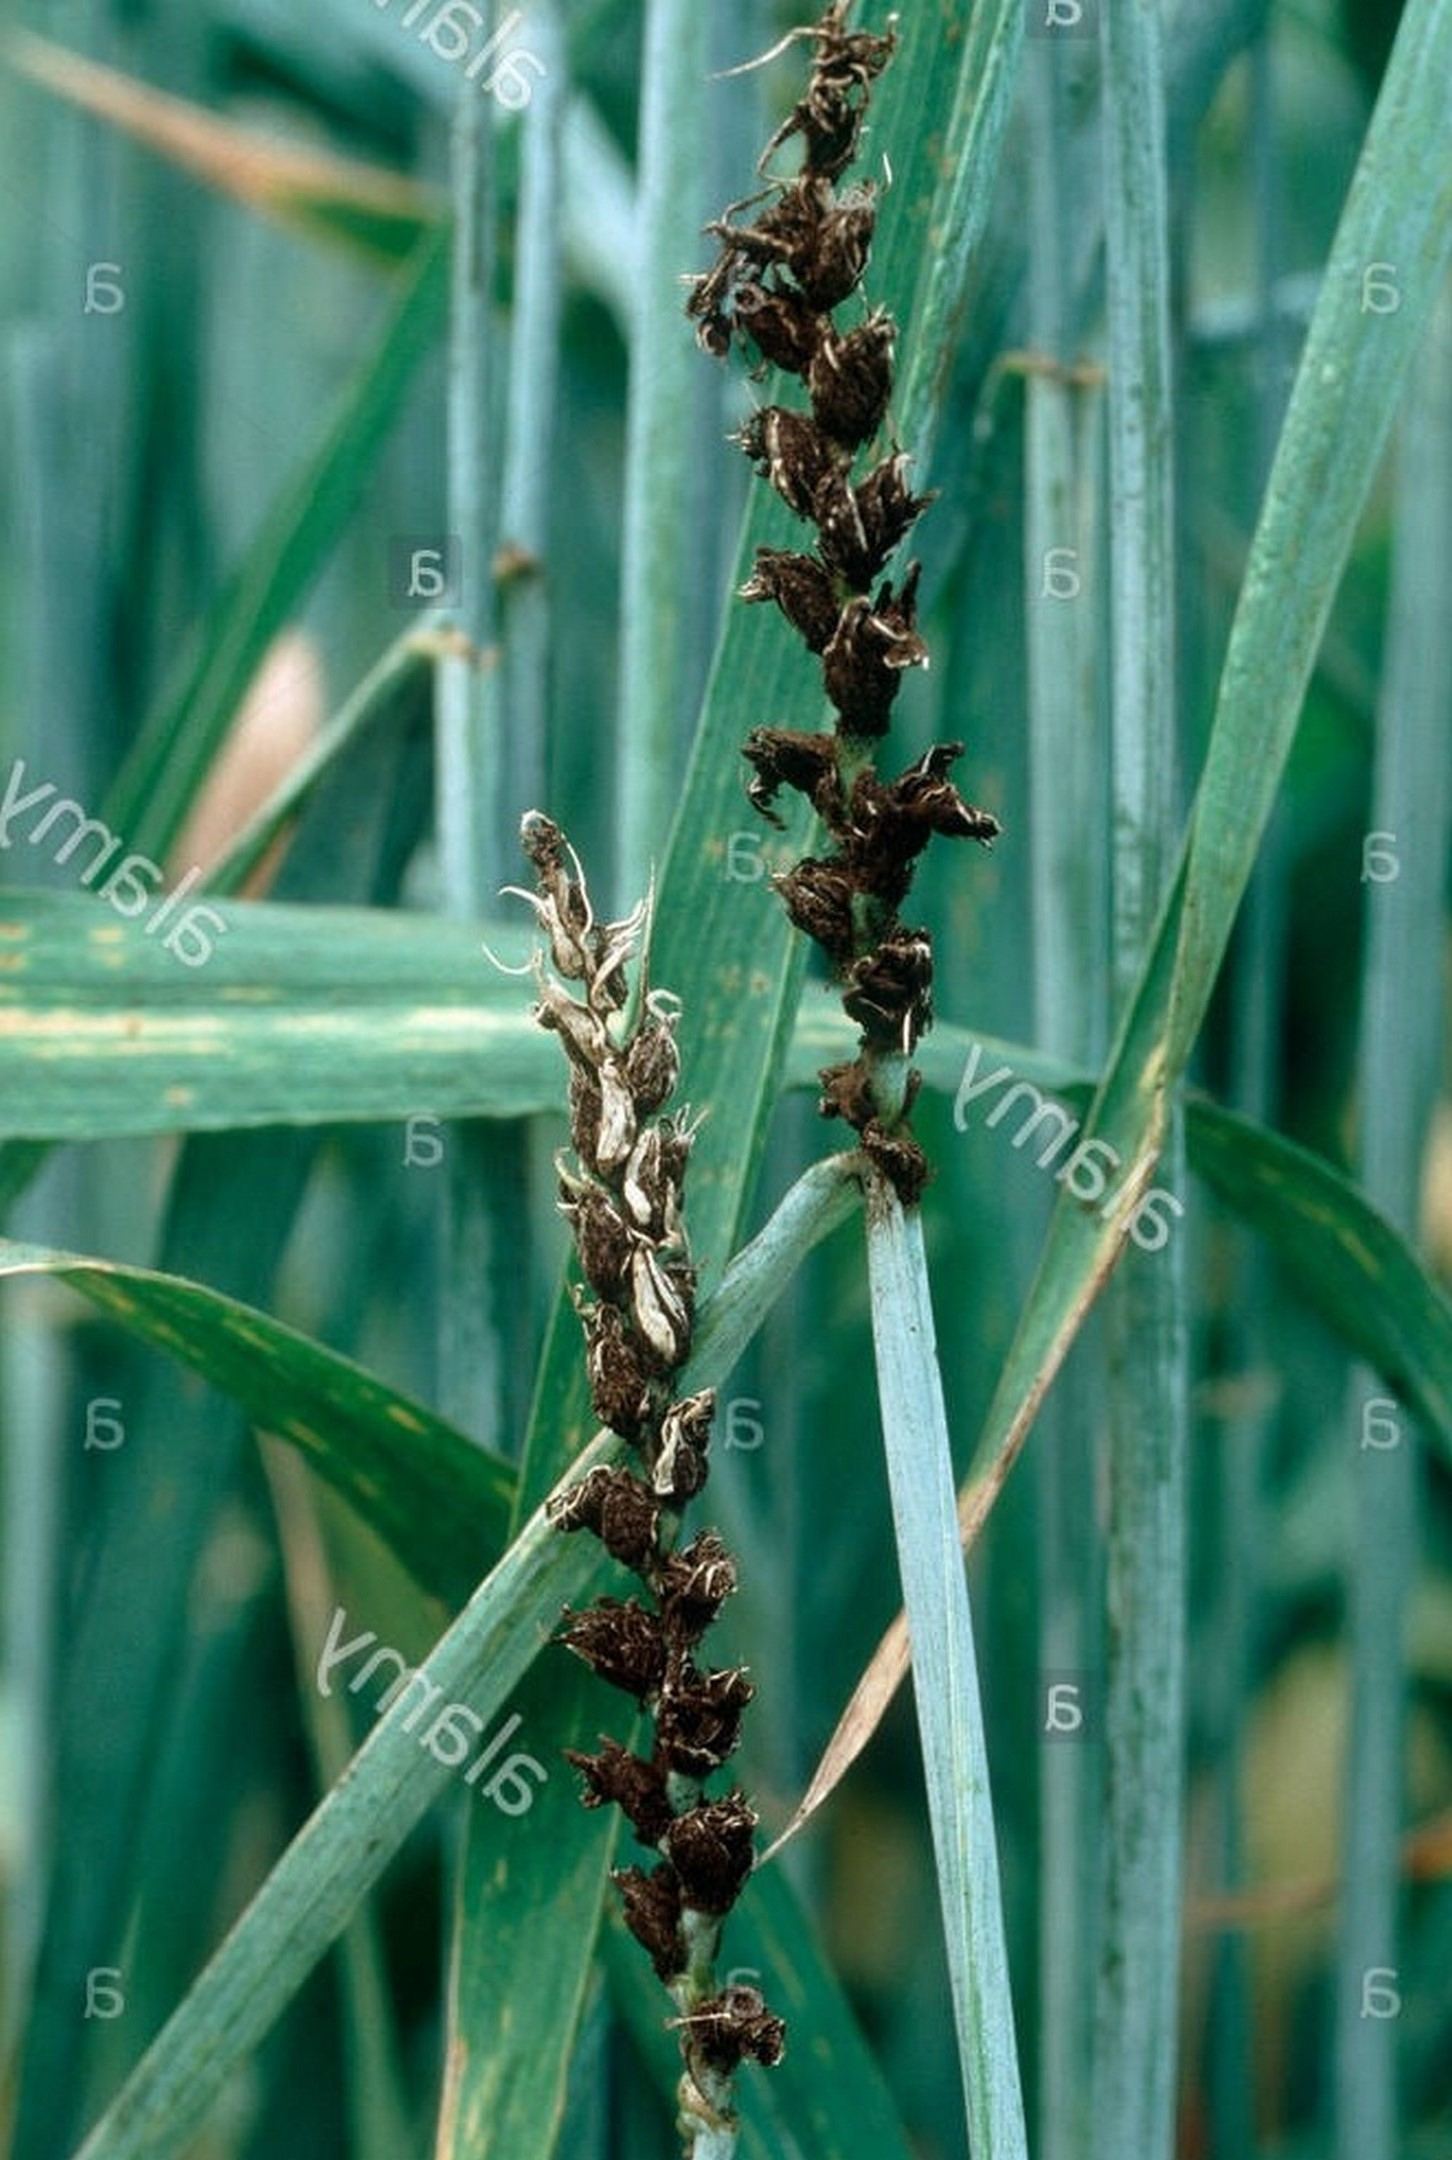Wheat Loose Smut: (483, 961, 826, 2022), (671, 41, 1040, 1005)
